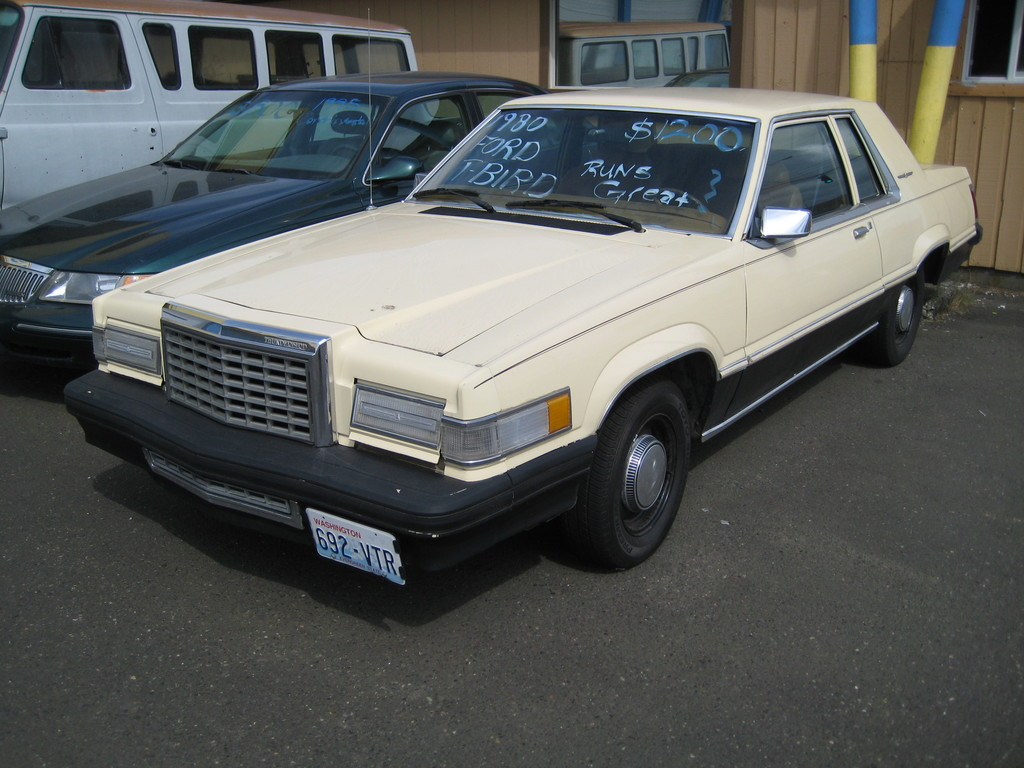Car: (62, 85, 984, 587), (0, 70, 595, 368)
